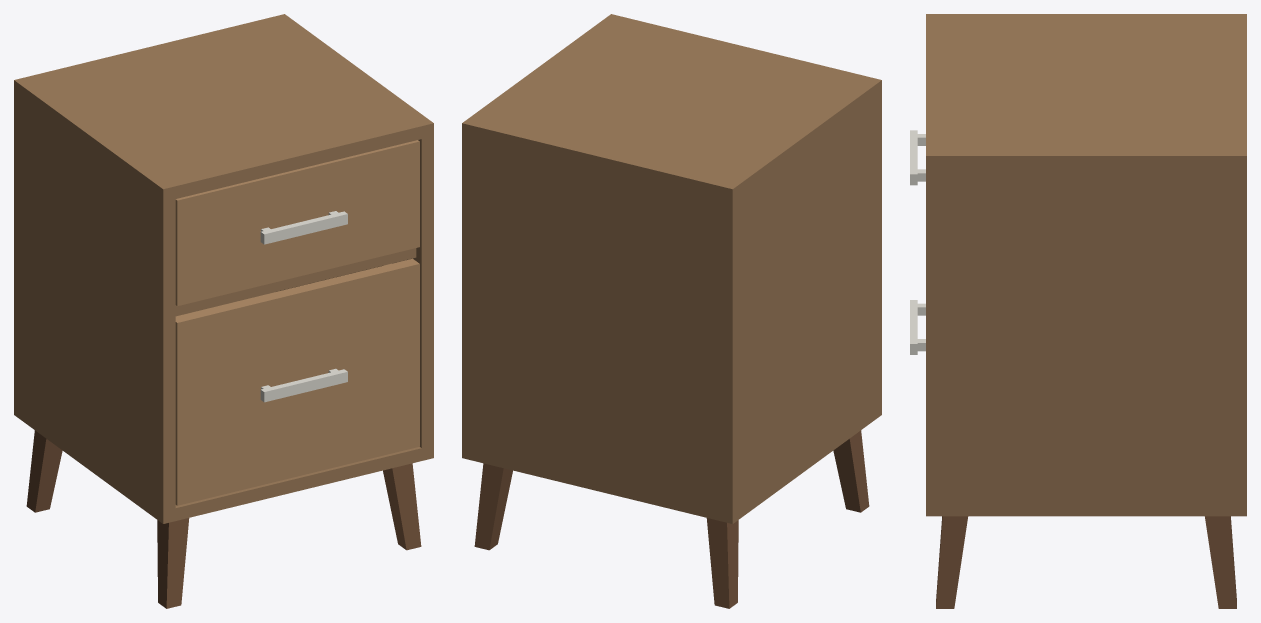
The model's file is kolejni_supliky_1968.glb.
3 views of the same model, side by side, from view 1: azimuth 30°, elevation 25°; view 2: azimuth 150°, elevation 25°; view 3: azimuth 270°, elevation 25° (orthographic). The views are drawn at different scales.
Parts seen in each view (by area): view 1: Korpus, Suplik_Spodni, Suplik_Horni; view 2: Korpus; view 3: Korpus, Suplik_Horni, Suplik_Spodni.
Boxes of the visible parts, x1,y1,x2,y2 form: Korpus: (14,14,433,608); Suplik_Spodni: (175,258,419,505); Suplik_Horni: (175,140,419,305); Korpus: (462,14,881,608); Korpus: (926,14,1246,608); Suplik_Horni: (910,130,925,185); Suplik_Spodni: (910,300,925,354).
Size of the model in its own units: 0.44 by 0.66 by 0.441.
